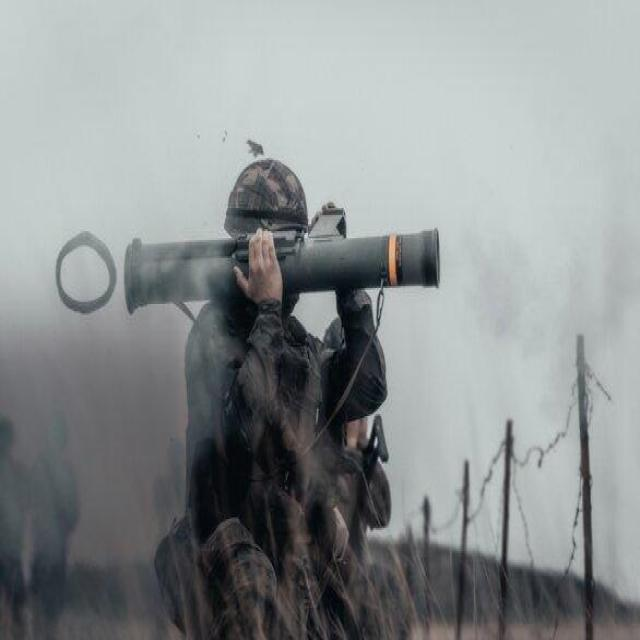weapon: (120, 235, 456, 320)
